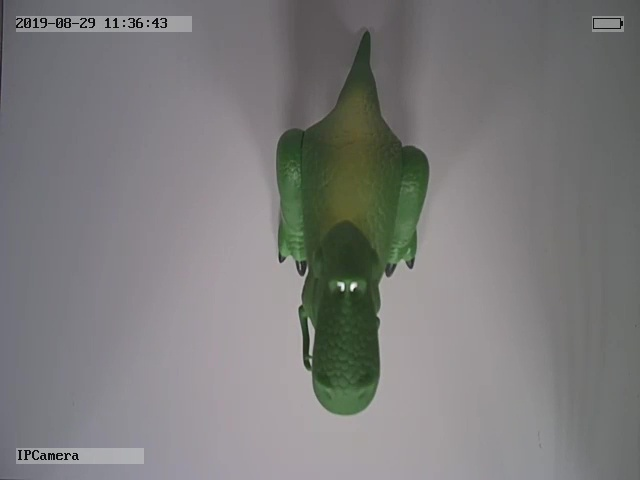rex: (274, 29, 429, 416)
